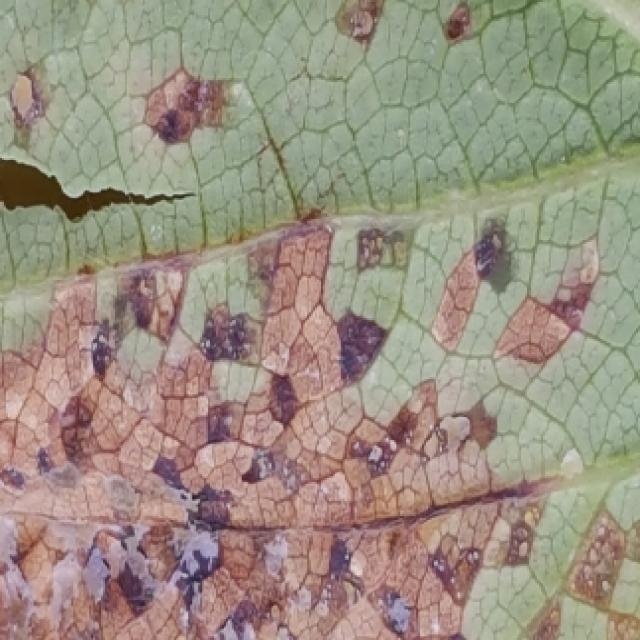Angular Leafspot: (0, 0, 640, 640)
